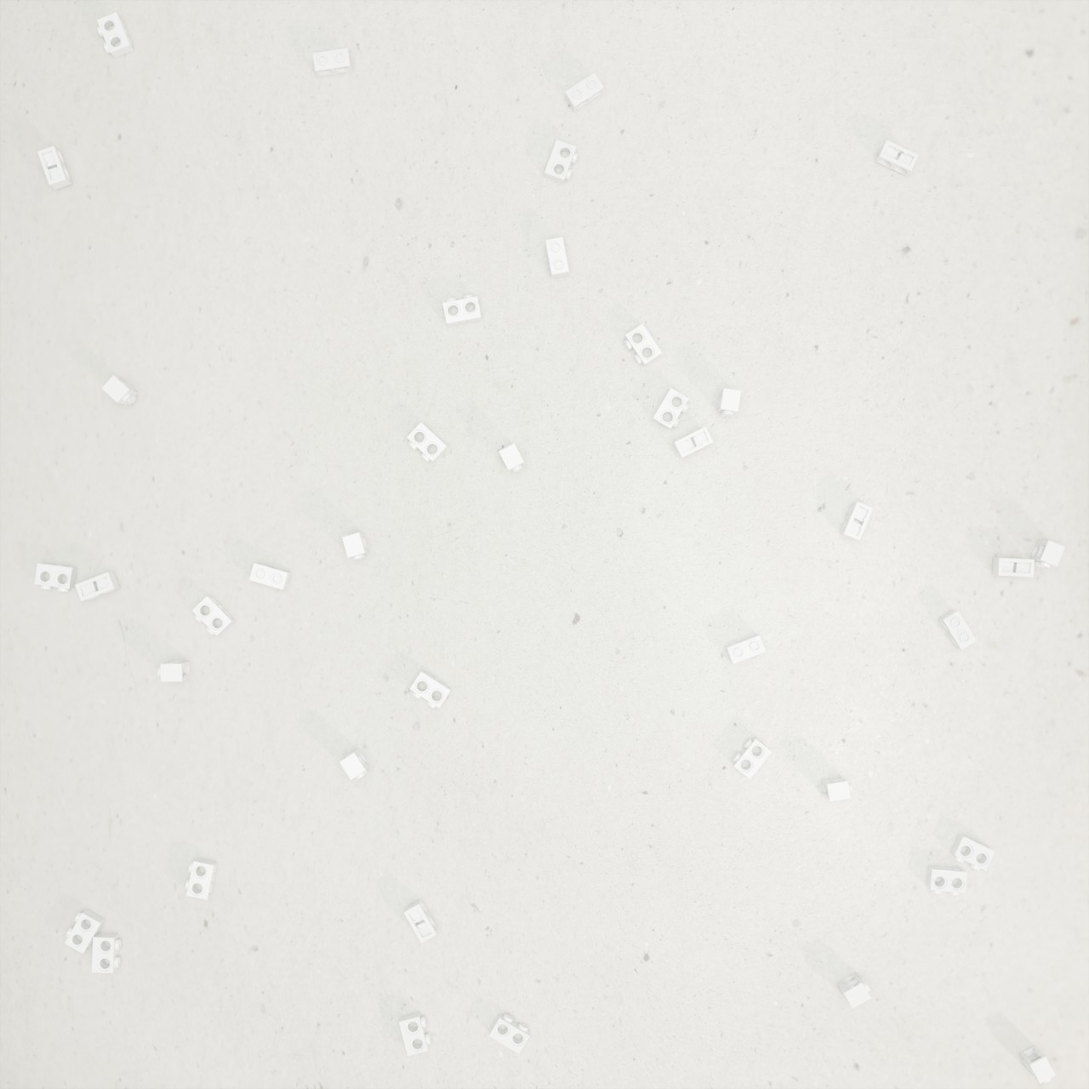lego: (65, 909, 105, 954), (192, 595, 235, 636), (732, 737, 772, 780), (950, 833, 995, 871), (97, 12, 134, 58), (489, 1013, 530, 1054), (407, 422, 448, 462), (410, 670, 452, 709), (624, 323, 662, 366), (652, 388, 690, 430), (875, 140, 919, 176), (938, 610, 977, 650), (565, 72, 604, 112), (37, 146, 72, 190), (544, 139, 578, 184), (404, 899, 438, 943), (1019, 1045, 1056, 1084), (399, 1011, 431, 1056), (185, 858, 218, 900), (672, 426, 714, 459), (840, 501, 874, 541), (75, 572, 120, 601), (443, 294, 482, 326), (34, 563, 77, 592), (725, 634, 766, 664), (926, 865, 967, 895), (837, 973, 871, 1009), (91, 933, 121, 973), (312, 48, 353, 77), (101, 375, 139, 406), (249, 563, 291, 590), (1029, 540, 1065, 569), (339, 748, 370, 780), (545, 237, 569, 278), (821, 775, 853, 802), (992, 558, 1035, 577), (499, 443, 525, 473), (342, 532, 369, 560), (716, 388, 741, 417), (157, 661, 190, 682)
